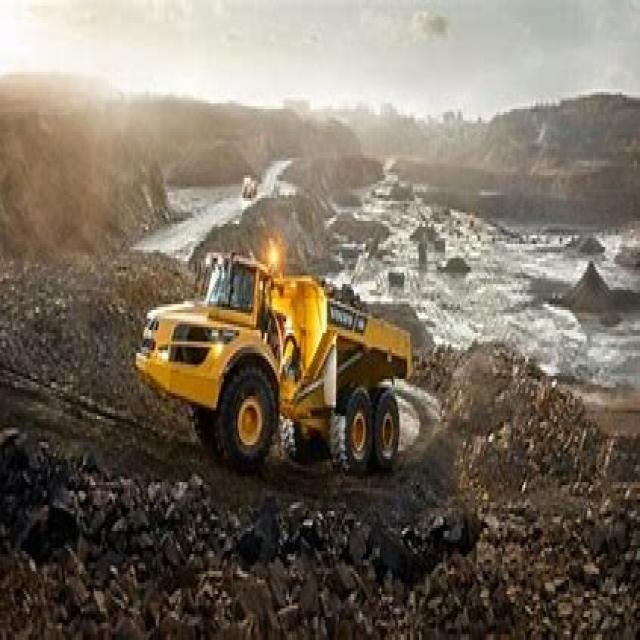dump_truck: (127, 224, 451, 468)
